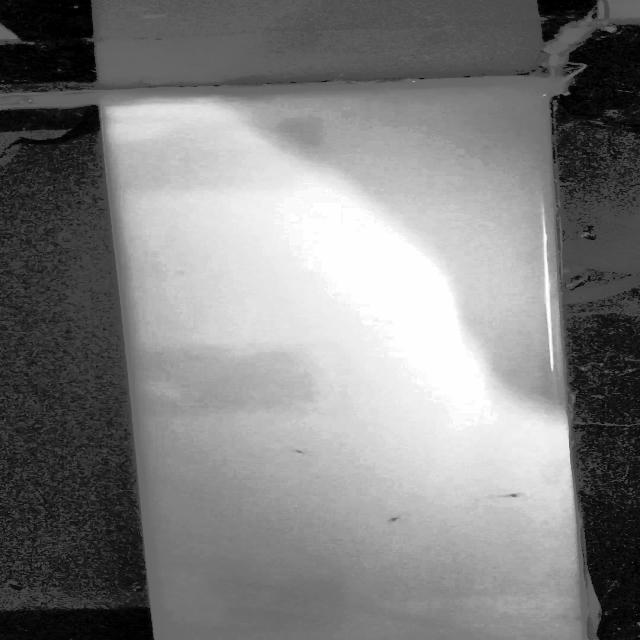shrimp: (489, 487, 538, 504), (379, 513, 406, 526)
